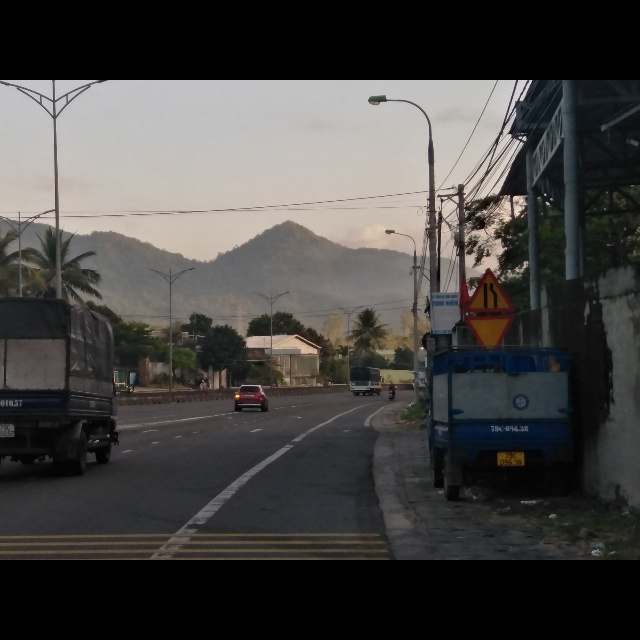Giao nhau với đường ưu tiên: (466, 315, 514, 350)
Đường bị hẹp bên phải: (464, 267, 515, 313)
